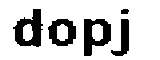d: (8, 6, 44, 52)
j: (108, 1, 140, 60)
o: (45, 16, 76, 49)
p: (80, 15, 111, 60)
